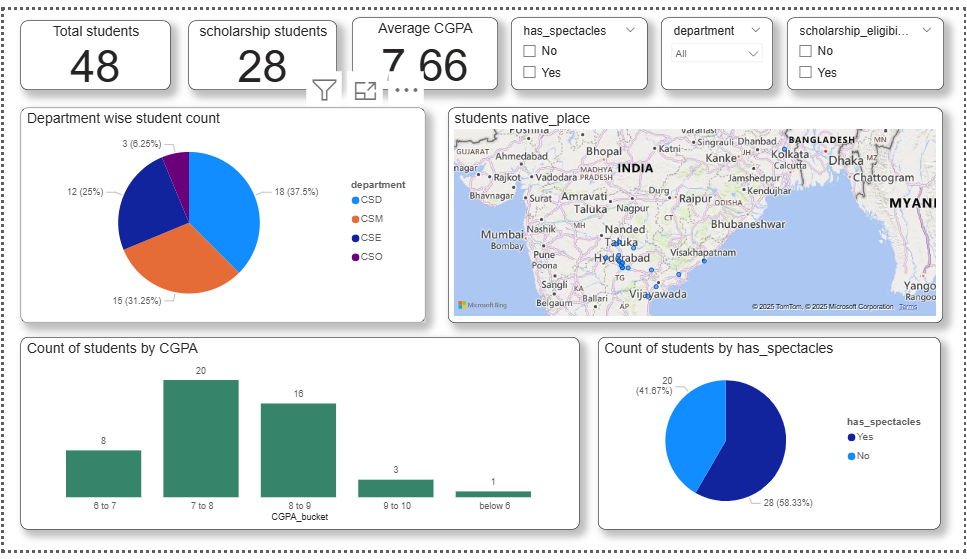

Layout of this report page (visuals, bound fields, positions):
{"tool":"powerbi","page":{"name":"Page 1","canvas":[1280,720],"ordinal":0},"visuals":[{"type":"card","title":"Total students","fields":{"Values":["Count(Query1.roll_number)"]},"box":[21.8,14.5,200,92.7],"z":0},{"type":"card","title":"scholarship students","fields":{"Values":["Count(Query1.roll_number)"]},"box":[245.5,14.5,198.2,92.7],"z":1000},{"type":"card","title":"Average CGPA","fields":{"Values":["Avg(Query1.cgpa)"]},"box":[463.6,10.9,194.5,96.4],"z":2000},{"type":"pieChart","title":"Department wise student count","fields":{"Category":["Query1.department"],"Y":["Count(Query1.roll_number)"]},"box":[21.8,129.1,540,287.3],"z":3000},{"type":"columnChart","title":"Count of students by CGPA","fields":{"Category":["Query1.CGPA_bucket"],"Y":["Count(Query1.roll_number)"]},"box":[21.8,436.4,745.5,256.4],"z":4000},{"type":"map","title":"students native_place","fields":{"Category":["Query1.native_place"]},"box":[592.7,129.1,660,287.3],"z":5000},{"type":"slicer","fields":{"Values":["Query1.department"]},"box":[876.4,10.9,149.1,96.4],"z":6000},{"type":"slicer","fields":{"Values":["Query1.scholarship_eligibility"]},"box":[1043.6,10.9,209.1,96.4],"z":7000},{"type":"pieChart","title":"Count of students by has_spectacles","fields":{"Y":["Count(Query1.roll_number)"],"Category":["Query1.has_spectacles"]},"box":[792.7,436.4,456.4,256.4],"z":8000},{"type":"slicer","fields":{"Values":["Query1.has_spectacles"]},"box":[676.4,10.9,181.8,96.4],"z":9000}]}

Visuals, with their boxes in screenshot pixels (x1, y1, x2, y2), scaled from the page's 1280x720 canvas onto the 967x559 screenshot:
"Total students" card: {"x1": 16, "y1": 11, "x2": 168, "y2": 83}
"scholarship students" card: {"x1": 185, "y1": 11, "x2": 335, "y2": 83}
"Average CGPA" card: {"x1": 350, "y1": 8, "x2": 497, "y2": 83}
"Department wise student count" pieChart: {"x1": 16, "y1": 100, "x2": 424, "y2": 323}
"Count of students by CGPA" columnChart: {"x1": 16, "y1": 339, "x2": 580, "y2": 538}
"students native_place" map: {"x1": 448, "y1": 100, "x2": 946, "y2": 323}
slicer - Query1.department: {"x1": 662, "y1": 8, "x2": 775, "y2": 83}
slicer - Query1.scholarship_eligibility: {"x1": 788, "y1": 8, "x2": 946, "y2": 83}
"Count of students by has_spectacles" pieChart: {"x1": 599, "y1": 339, "x2": 944, "y2": 538}
slicer - Query1.has_spectacles: {"x1": 511, "y1": 8, "x2": 648, "y2": 83}
